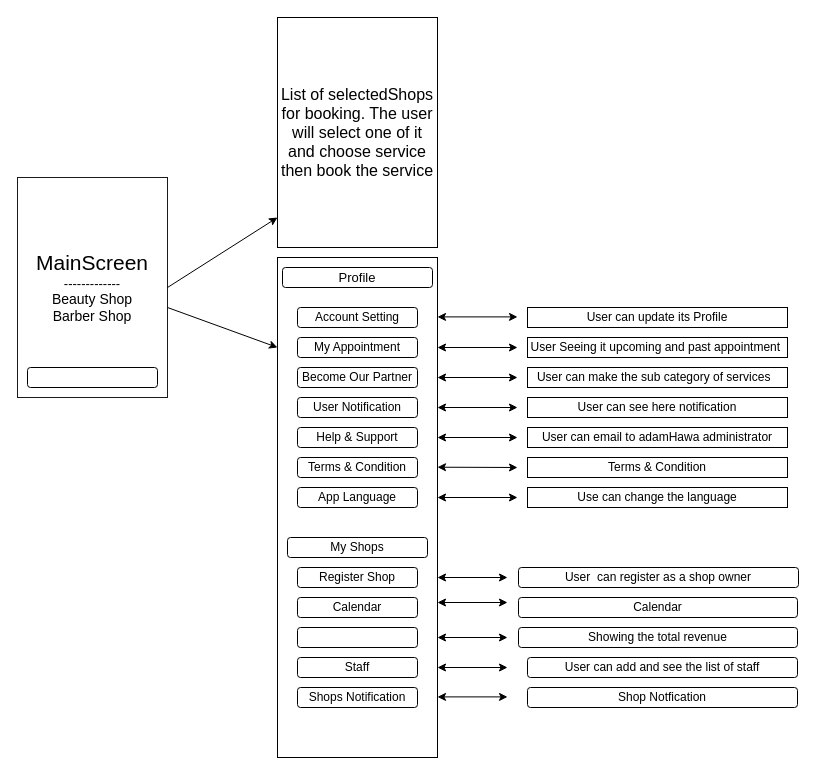
Image size: 816x775. Some labels were removed from this diagram. Each missing label, with the centre of its shape:
"Earnings" belongs at [357,637].
"Home Profile" belongs at [92,377].
